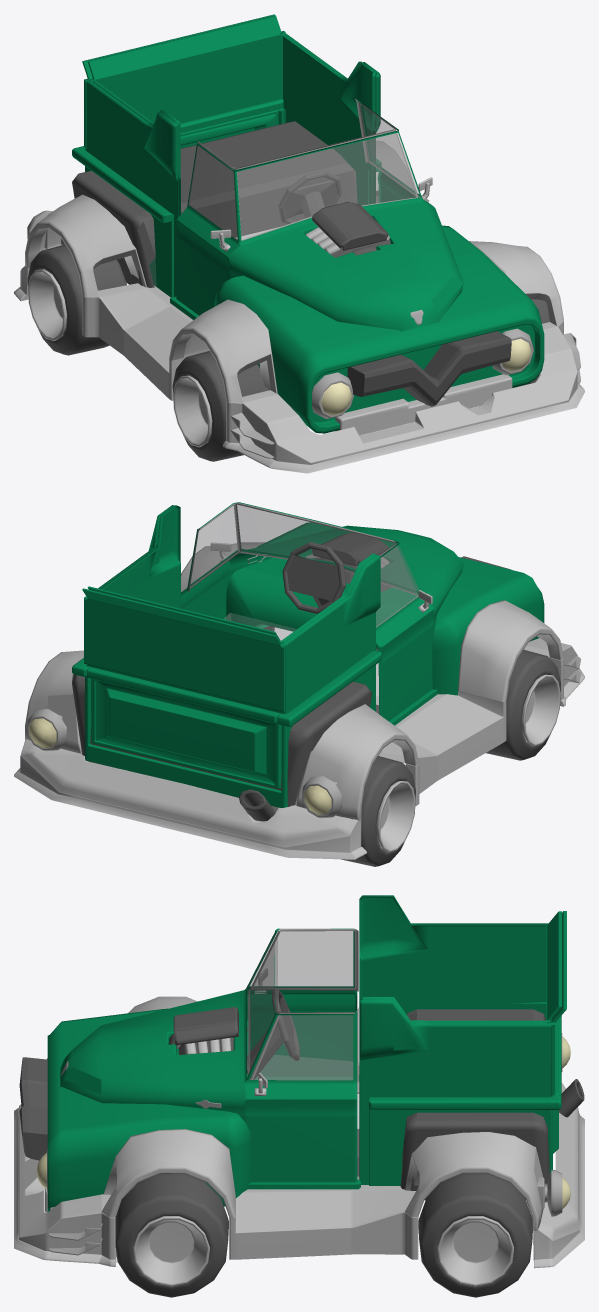
File: Truck.fbx
The picture shows the model from 3 angles, top to bottom: view 1: azimuth 30°, elevation 25°; view 2: azimuth 150°, elevation 25°; view 3: azimuth 270°, elevation 25°; orthographic projection. The views are drawn at different scales.
Parts seen in each view (by area): view 1: Body1, R_R_Wheel, RF_Wheel, Steering; view 2: Body1, RF_Wheel, R_R_Wheel, Steering; view 3: Body1, LR_Wheel, LF_Wheel, Steering.
Part boxes in pixels (x1,y1,x2,y2): Body1: (14, 14, 584, 473); R_R_Wheel: (27, 244, 126, 355); RF_Wheel: (172, 351, 268, 461); Steering: (278, 170, 341, 224); Body1: (14, 502, 584, 859); RF_Wheel: (486, 650, 561, 760); R_R_Wheel: (341, 756, 415, 866); Steering: (282, 542, 346, 613); Body1: (14, 895, 584, 1268); LR_Wheel: (418, 1173, 532, 1297); LF_Wheel: (115, 1174, 228, 1297); Steering: (247, 988, 299, 1079).
Size of the model in its own units: 11.19 by 7.77 by 15.04.
